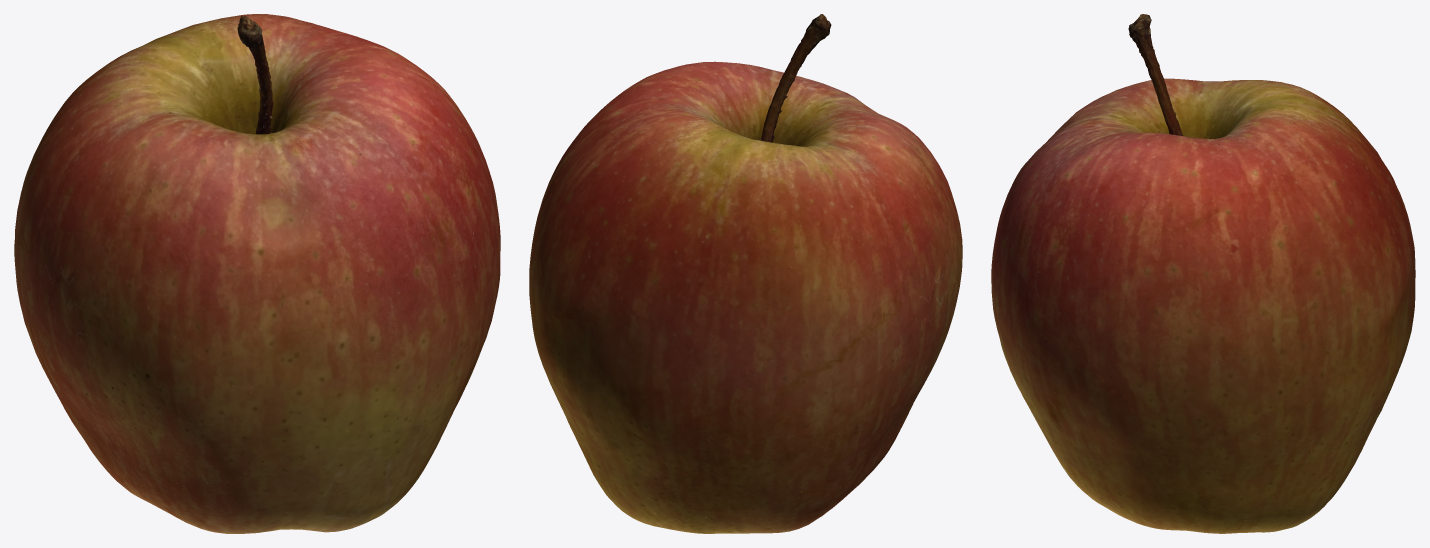
Rendered from apple.glb.
3 views of the same model, side by side, from view 1: azimuth 30°, elevation 25°; view 2: azimuth 150°, elevation 25°; view 3: azimuth 270°, elevation 25° (orthographic). The views are drawn at different scales.
Visible parts, largest first — view 1: apple2; view 2: apple2; view 3: apple2.
Boxes of the visible parts, bbox=[...] form: apple2: bbox=[14, 14, 500, 533]; apple2: bbox=[529, 14, 962, 533]; apple2: bbox=[991, 14, 1415, 533].
Size of the model in its own units: 0.6221 by 0.7714 by 0.6309.
Materials: 1 (1 with a texture image).
